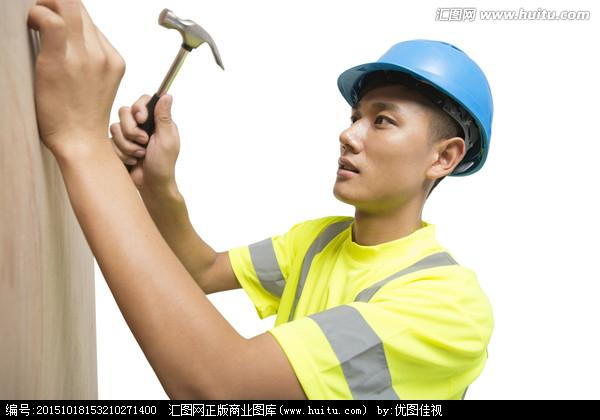helmet: (337, 40, 493, 179)
